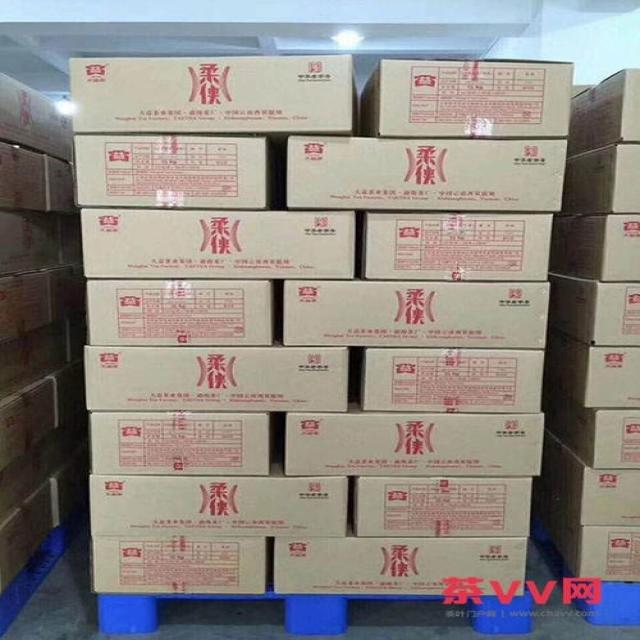box: (69, 55, 360, 137), (286, 135, 568, 211), (89, 462, 349, 538), (81, 208, 356, 279), (284, 403, 545, 476), (282, 280, 550, 349), (84, 345, 350, 412), (274, 526, 528, 596), (359, 58, 575, 138), (70, 134, 271, 210), (360, 211, 554, 281), (86, 280, 274, 346), (359, 347, 545, 413), (91, 412, 270, 475), (352, 476, 532, 537), (91, 536, 266, 593), (544, 429, 639, 527), (541, 379, 639, 469), (545, 329, 639, 407), (0, 72, 76, 162), (549, 273, 639, 346), (555, 142, 639, 217), (567, 69, 639, 156), (549, 214, 639, 282), (0, 319, 66, 399), (1, 377, 55, 472), (0, 207, 61, 275), (1, 269, 49, 341), (579, 526, 639, 580), (0, 142, 46, 210), (44, 154, 80, 212)
